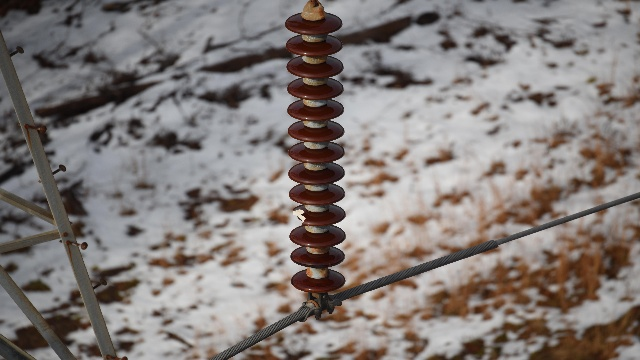broken_local: (293, 205, 306, 229)
insulator_unspecified: (285, 12, 346, 292)
